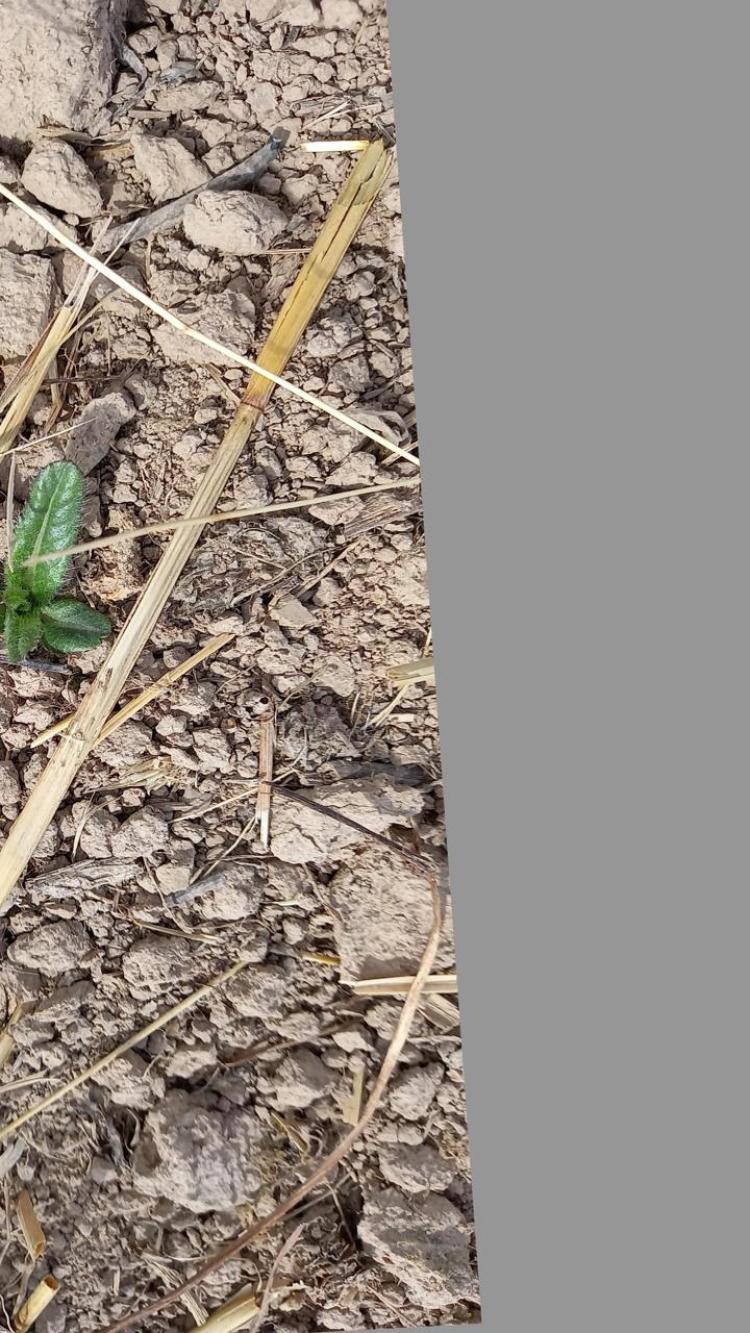bodyak: (0, 460, 119, 681)
